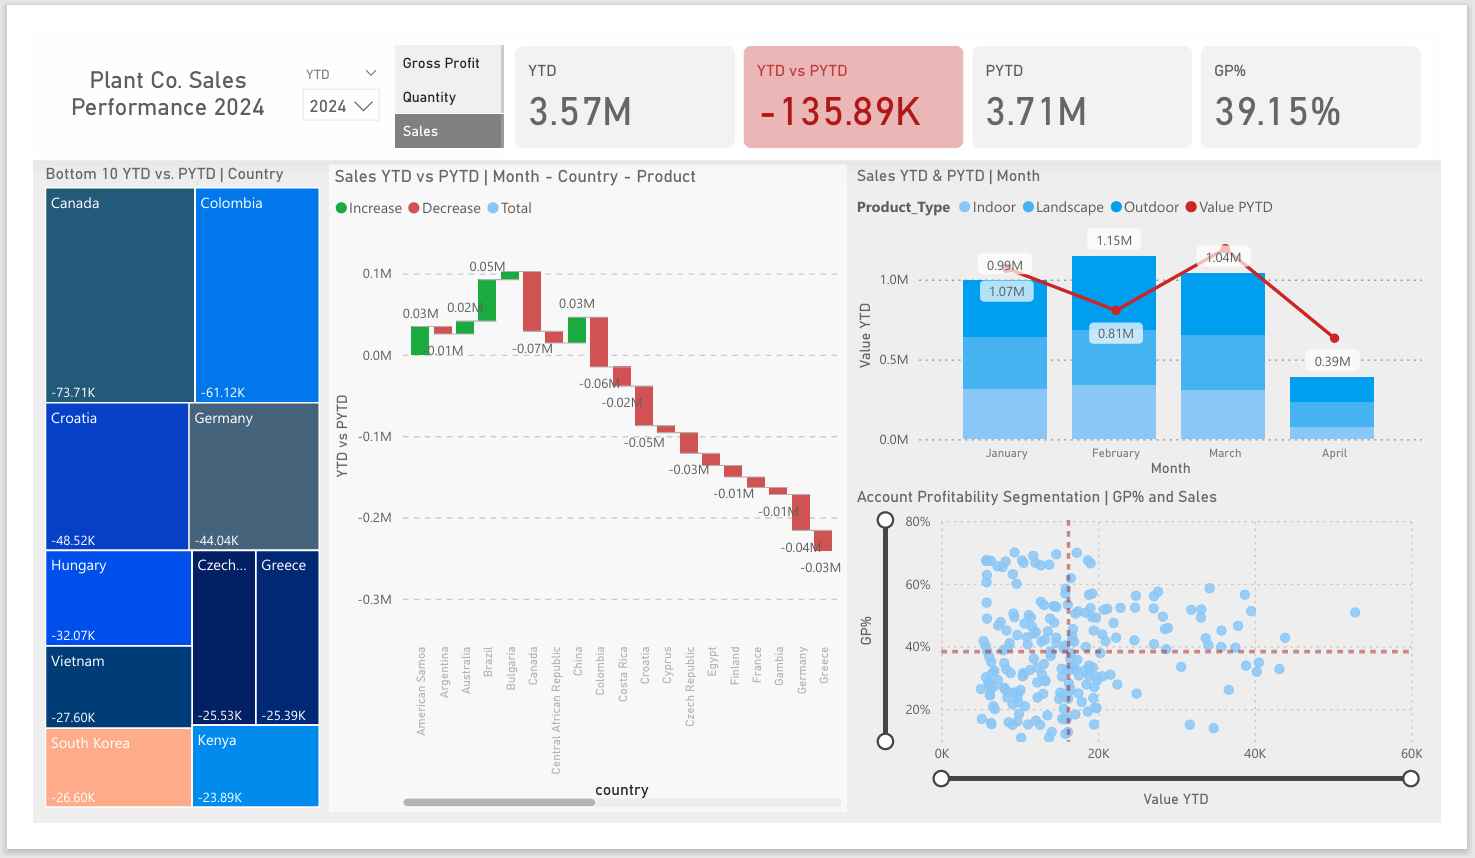

The page's visual inventory and layout, read from the dashboard file:
{"tool":"powerbi","page":{"name":"Performance Report","canvas":[1280,720],"ordinal":0},"visuals":[{"type":"advancedSlicerVisual","fields":{"Values":["Slc_Values.Values"]},"box":[324.2,9.1,109.1,103],"z":0},{"type":"slicer","fields":{"Values":["Dim_Date.Date.Variation.Date Hierarchy.Year"]},"box":[234.5,28.2,90,105.5],"z":1000},{"type":"cardVisual","fields":{"Data":["_Measures.Switch_YTD","_Measures.YTD vs PYTD","_Measures.Switch_PYTD","_Measures.GP%"]},"box":[433.3,9.1,834.3,103],"z":2000},{"type":"treemap","title":"Bottom 10 YTD vs. PYTD | Country","fields":{"Group":["Dim_Account.country"],"Values":["_Measures.YTD vs PYTD"]},"box":[6.4,121.8,258.2,589.1],"z":3000},{"type":"waterfallChart","fields":{"Y":["_Measures.YTD vs PYTD"],"Category":["Dim_Date.Date.Variation.Date Hierarchy.Month","Dim_Account.country","Dim_Product.Product_Type","Dim_Product.Product_Name"]},"box":[269,123.4,470.3,587.3],"z":4000},{"type":"lineStackedColumnComboChart","fields":{"Y":["_Measures.Switch_YTD"],"Y2":["_Measures.Switch_PYTD"],"Category":["Dim_Date.Date.Variation.Date Hierarchy.Quarter","Dim_Date.Date.Variation.Date Hierarchy.Month"],"Series":["Dim_Product.Produt_Type"]},"box":[743.6,123.6,524.5,287.3],"z":5000},{"type":"scatterChart","fields":{"Y":["_Measures.GP%"],"X":["_Measures.Switch_YTD"],"Category":["Dim_Account.Account"]},"box":[743.6,416.4,524.5,294.5],"z":6000},{"type":"card","fields":{"Values":["_Measures._Report title"]},"box":[0,18.2,244.5,77.3],"z":7000}]}

Visuals, with their boxes in screenshot pixels (x1, y1, x2, y2):
advancedSlicerVisual - Slc_Values.Values: detection(407, 0, 531, 93)
slicer - Dim_Date.Date.Variation.Date Hierarchy.Year: detection(305, 0, 407, 117)
cardVisual - _Measures.Switch_YTD x _Measures.YTD vs PYTD: detection(531, 0, 1474, 93)
"Bottom 10 YTD vs. PYTD | Country" treemap: detection(46, 104, 339, 773)
waterfallChart - _Measures.YTD vs PYTD x Dim_Date.Date.Variation.Date Hierarchy.Month: detection(344, 106, 879, 773)
lineStackedColumnComboChart - _Measures.Switch_YTD x _Measures.Switch_PYTD: detection(883, 106, 1474, 432)
scatterChart - _Measures.GP% x _Measures.Switch_YTD: detection(883, 439, 1474, 773)
card - _Measures._Report title: detection(38, 0, 316, 74)
